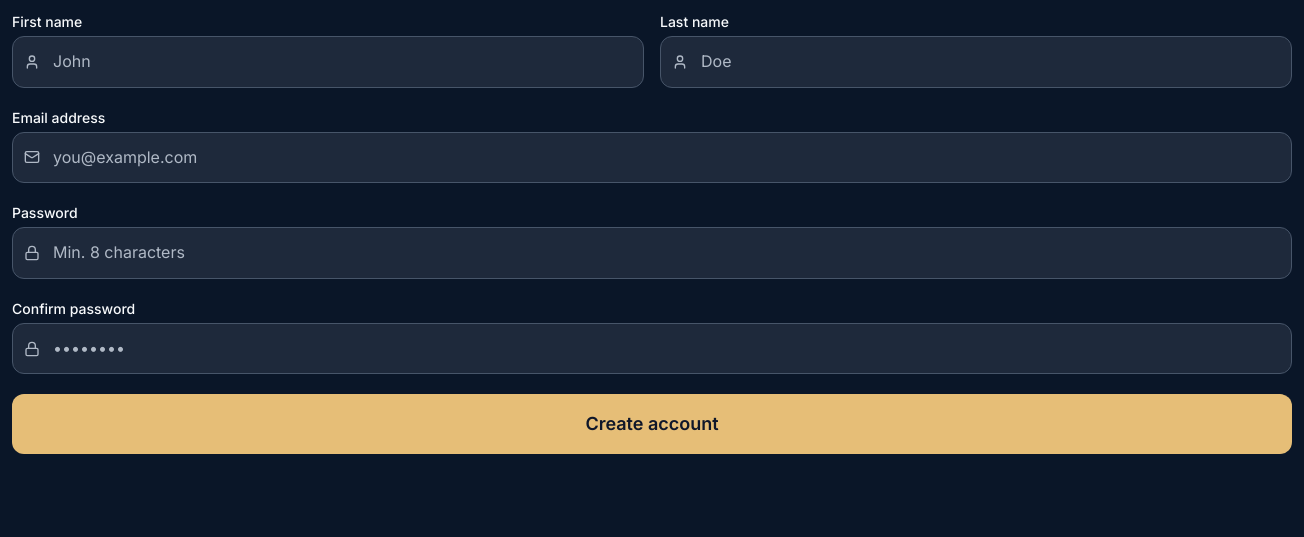
RegisterForm › shows a root-level general error for non-email server errors
This screenshot has width=1304, height=537.
In the field labelled "First name": (328, 62) [12,36,644,88], type "Kevin"
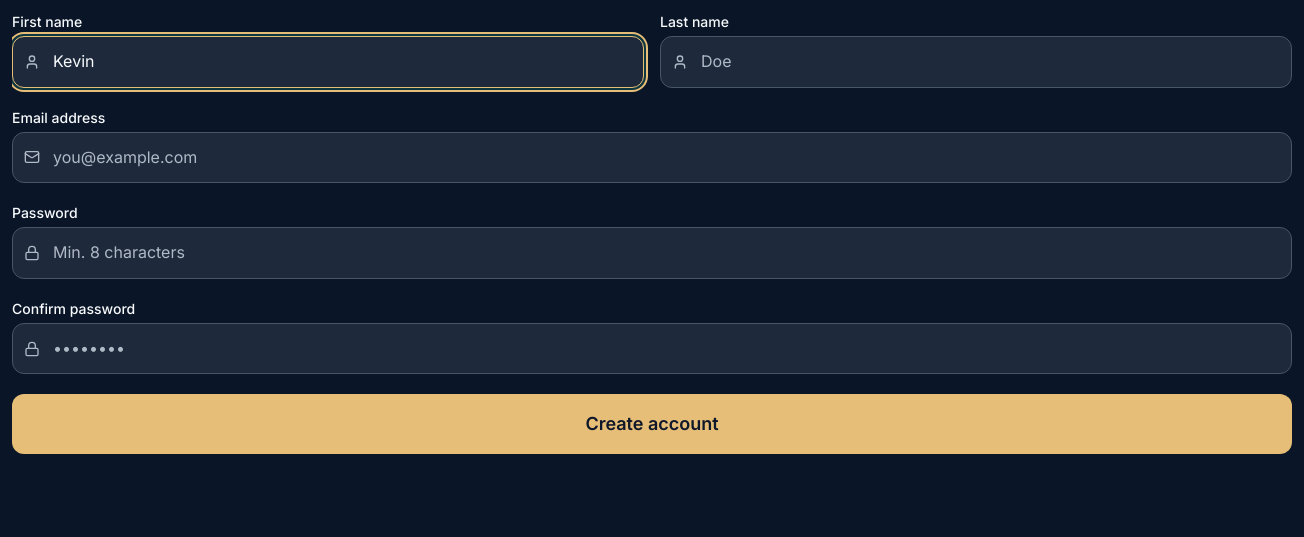
In the field labelled "Last name": (976, 62) [660,36,1292,88], type "Mahendra"
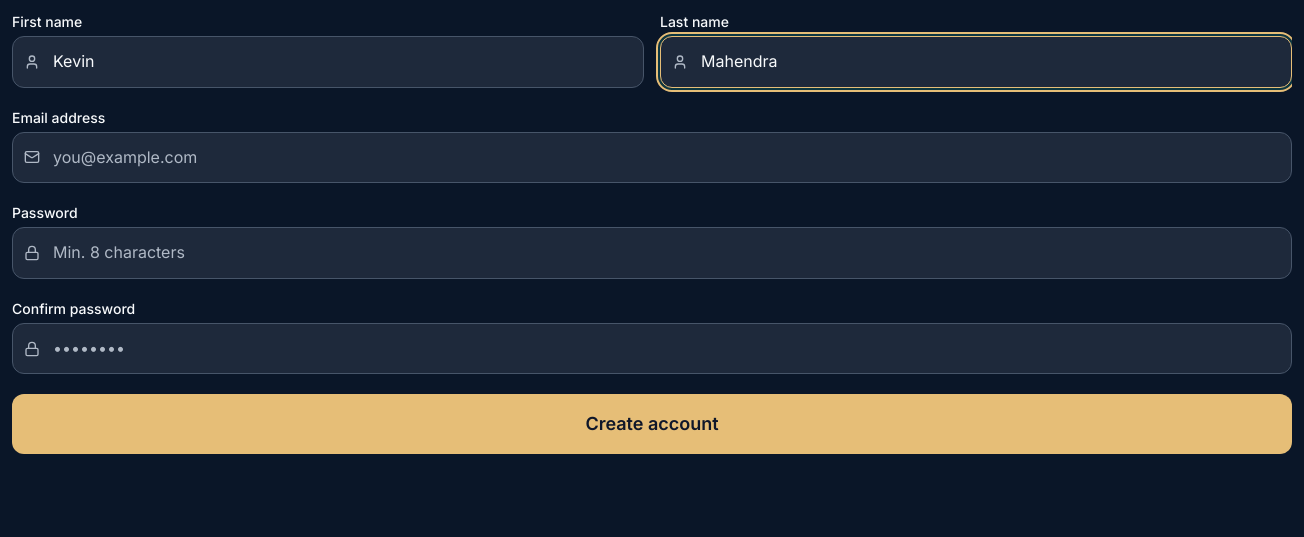
In the field labelled "Email address": (652, 157) [12,132,1292,183], type "kevin@example.com"
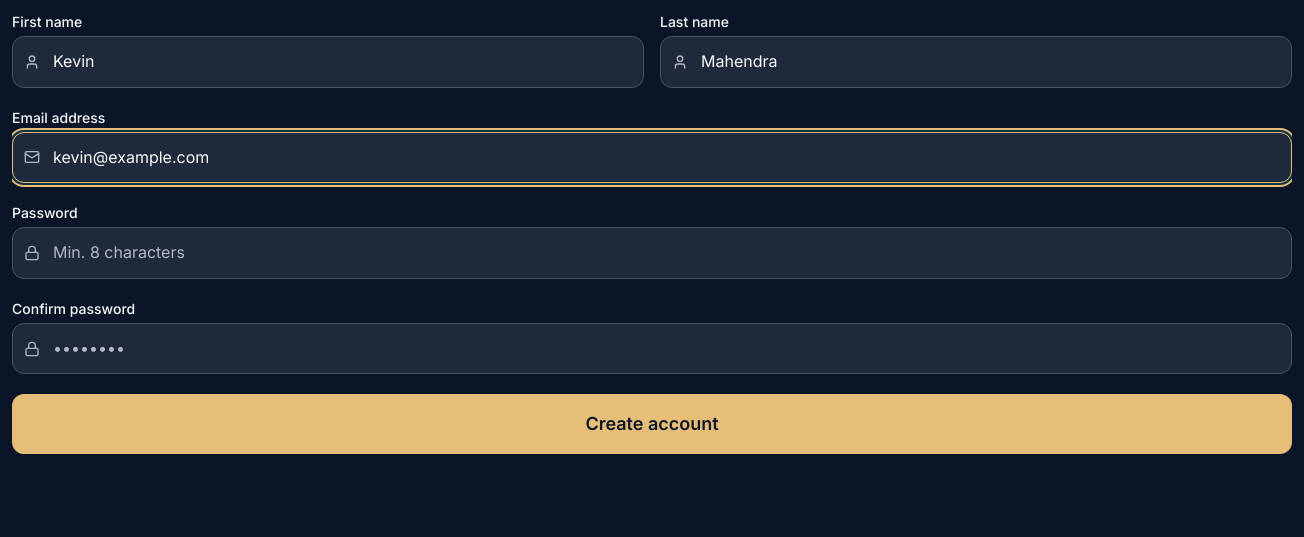
In the password field labelled "Password": (652, 253) [12,227,1292,279], type "StrongPass123!"
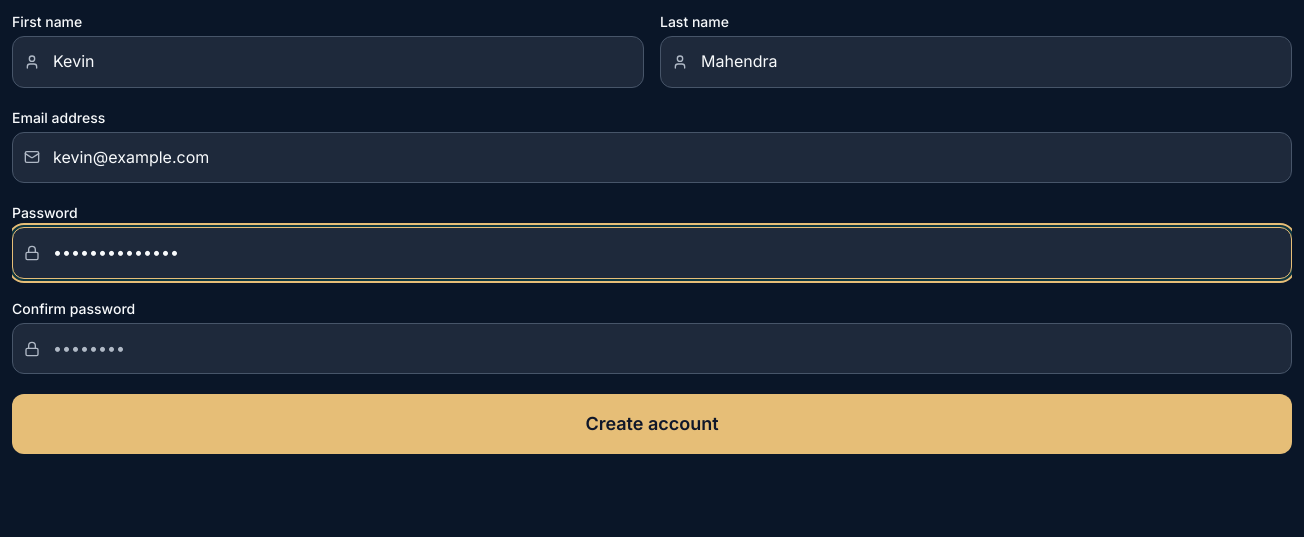
In the password field labelled "Confirm password": (652, 349) [12,323,1292,374], type "StrongPass123!"
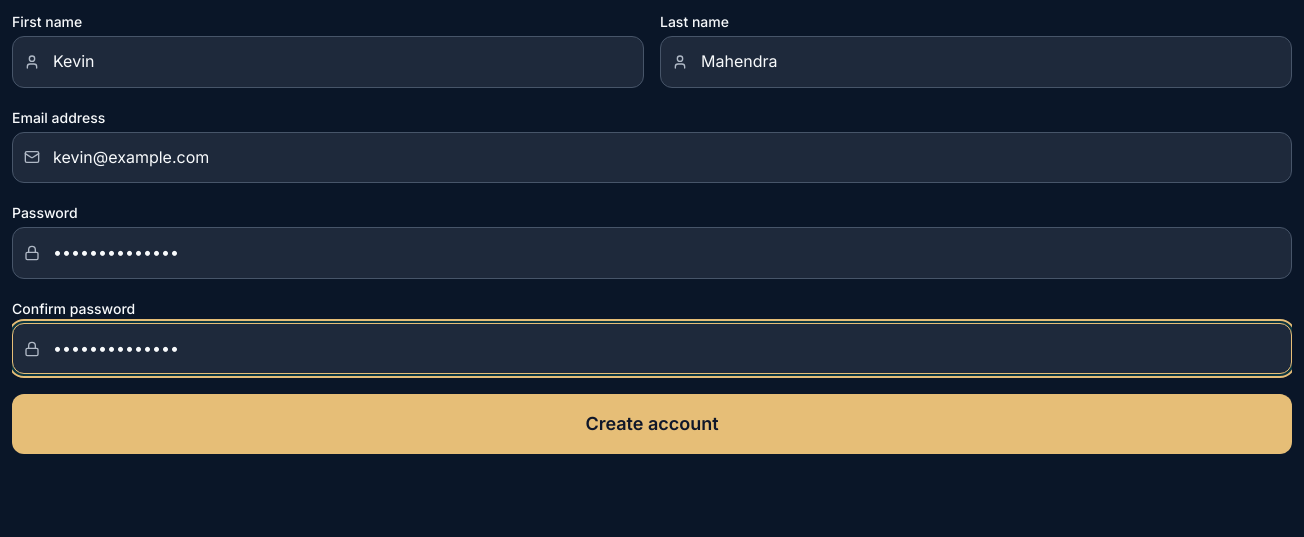
Click the button "Create account": (652, 424) [12,394,1292,454]
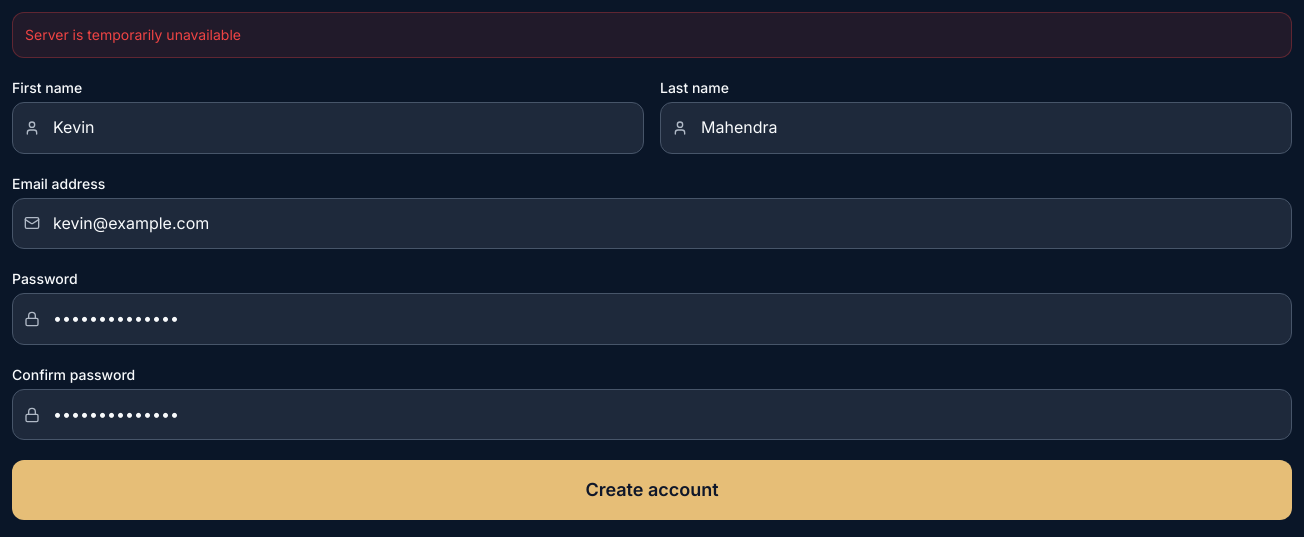
Now the text "Server is temporarily unavailable" is shown, box [25,26,241,43]
